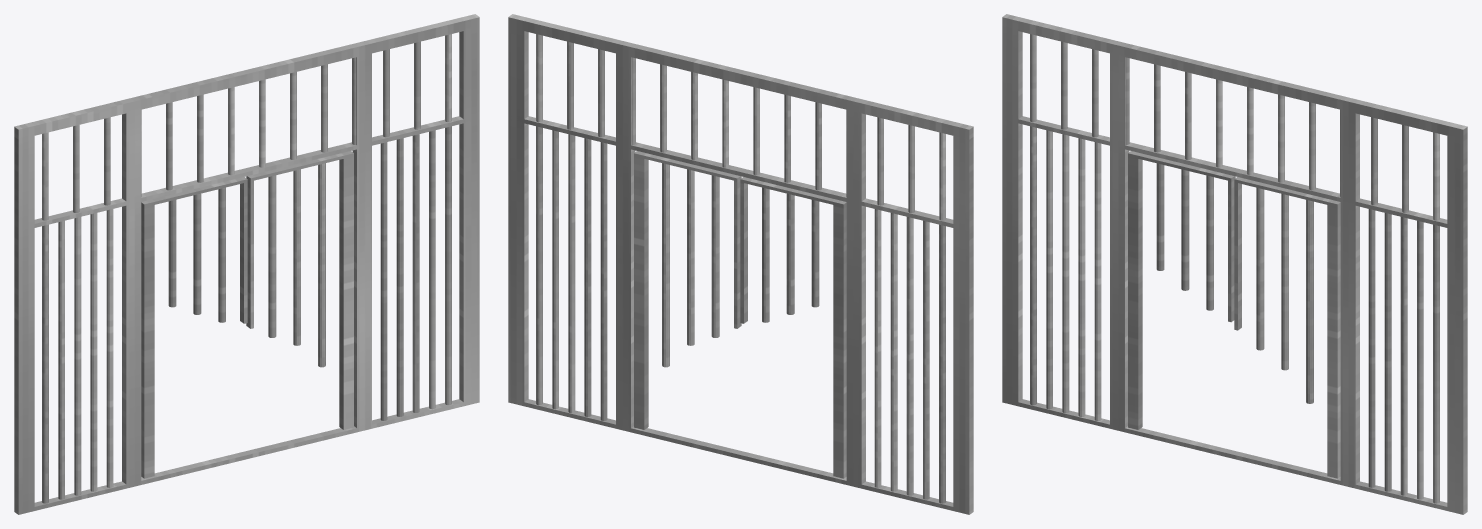
File: Puerta_Cortada.fbx
3 renders of one model, left to right at view 1: azimuth 30°, elevation 25°; view 2: azimuth 150°, elevation 25°; view 3: azimuth 330°, elevation 25°, orthographic.
Visible parts, largest first — view 1: Puerta_Cortada; view 2: Puerta_Cortada; view 3: Puerta_Cortada.
Part boxes in pixels (left/top/right/bottom): Puerta_Cortada: left=14, top=14, right=479, bottom=514; Puerta_Cortada: left=508, top=14, right=973, bottom=514; Puerta_Cortada: left=1002, top=14, right=1467, bottom=514.
Size of the model in its own units: 372 by 297 by 6.08.
